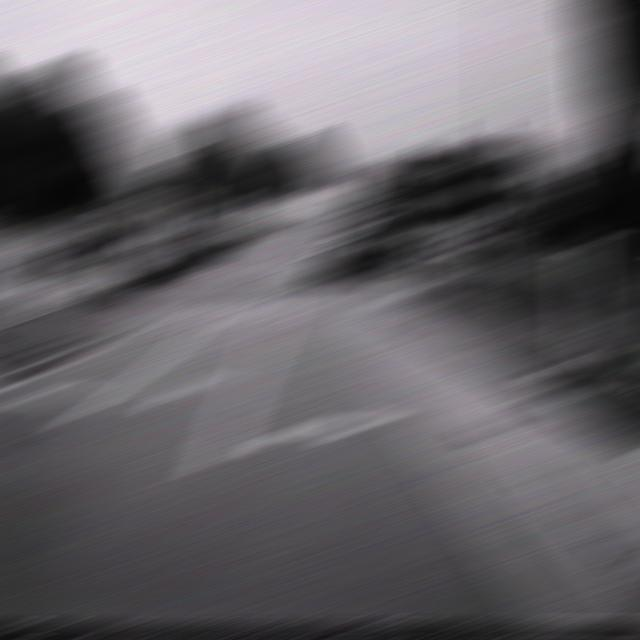stop: (88, 201, 126, 228), (386, 201, 424, 226)
